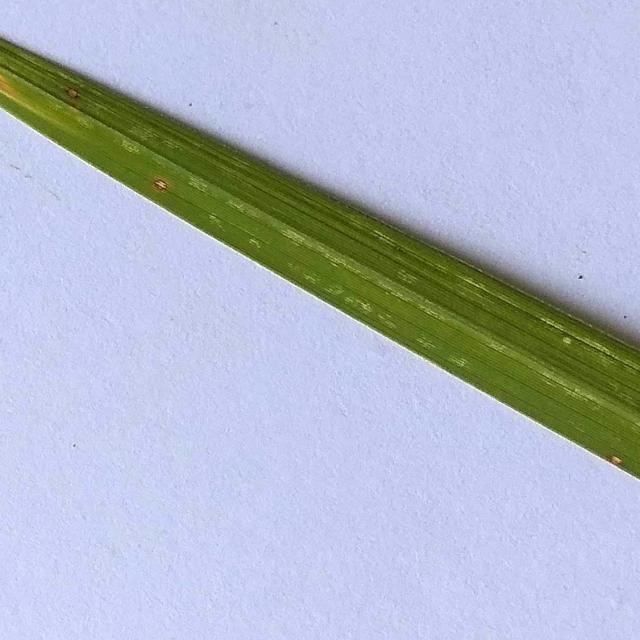Blast: (148, 177, 172, 190), (64, 84, 78, 105), (607, 452, 627, 463)
